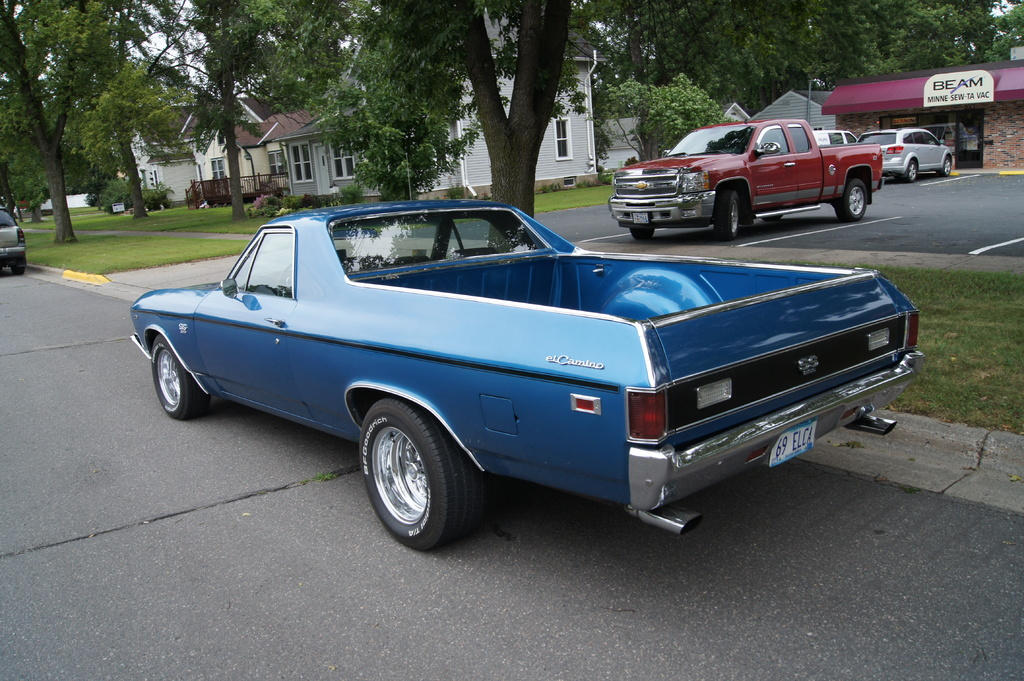mobil: (129, 202, 971, 573), (604, 128, 888, 249)
